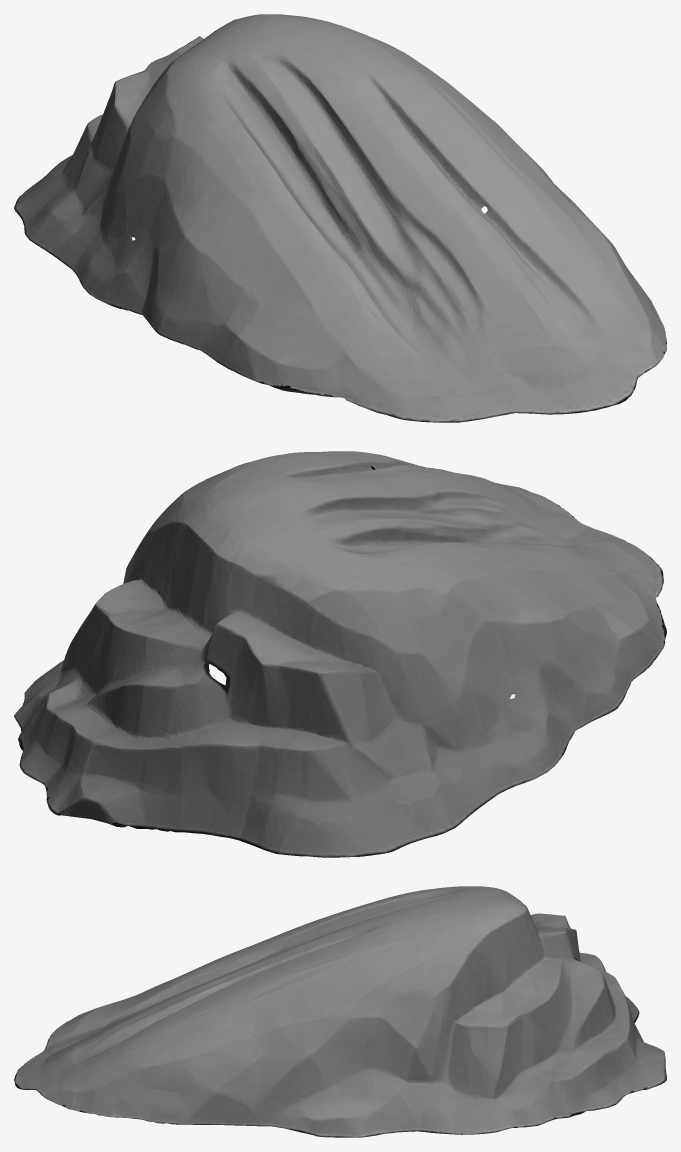
3 renders of one model, top to bottom at view 1: azimuth 30°, elevation 25°; view 2: azimuth 150°, elevation 25°; view 3: azimuth 270°, elevation 25°, orthographic. The views are drawn at different scales.
Parts seen in each view (by area): view 1: world; view 2: world; view 3: world.
Part boxes in pixels (bbox=[...]): world: bbox=[14, 14, 666, 422]; world: bbox=[14, 451, 666, 857]; world: bbox=[14, 886, 666, 1137].
Bounding box in the file's own units: 0.6225 × 0.2682 × 0.9991.
1 material, 1 textured.
